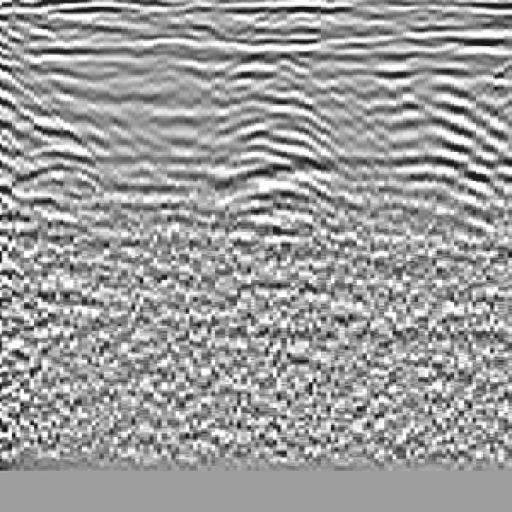metalic: (176, 59, 371, 284)
nonmetalic: (1, 29, 61, 305)
